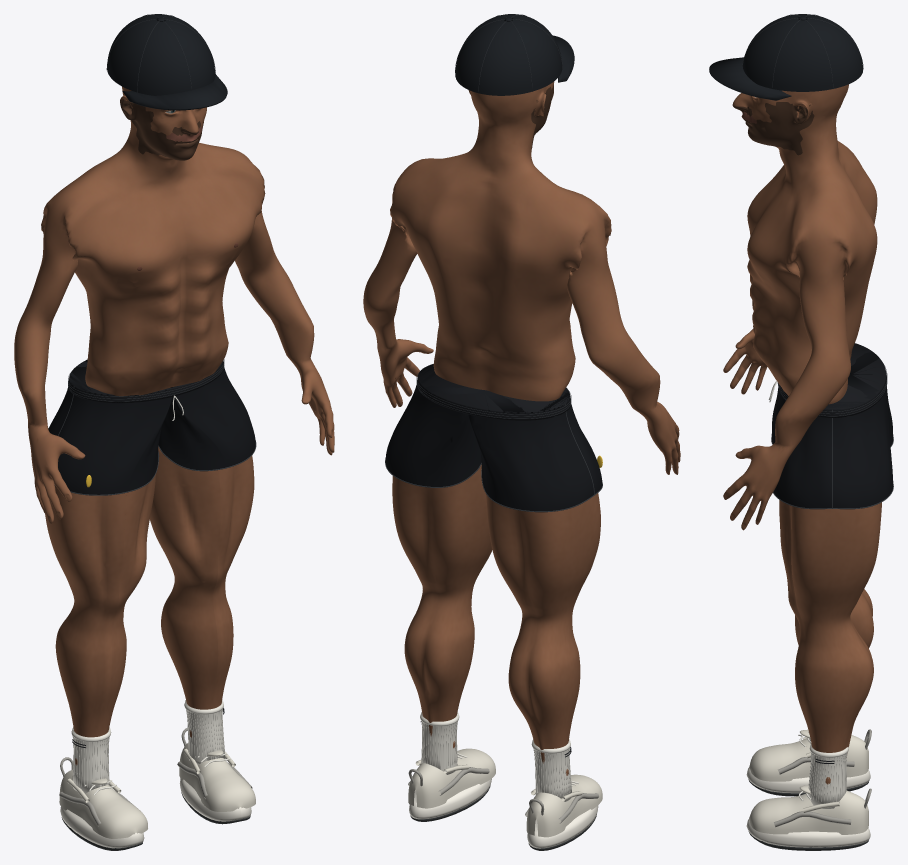
The model's file is chicken-legs.glb.
The picture shows the model from 3 angles, left to right: view 1: azimuth 30°, elevation 25°; view 2: azimuth 150°, elevation 25°; view 3: azimuth 270°, elevation 25°; orthographic projection.
Visible parts, largest first — view 1: web_skin, web_shorts.001, web_cap, web_shoe.003, web_sock, web_face, web_shoe.002, web_shorts, web_shorts.002, web_shoe.004; view 2: web_skin, web_shorts.001, web_cap, web_shoe.003, web_sock, web_shorts, web_shoe.002, web_shorts.002, web_shoe.004; view 3: web_skin, web_shorts.001, web_cap, web_shoe.003, web_shoe.002, web_face, web_shorts, web_sock, web_shoe.004, web_shoe.001, web_shorts.002.
Boxes of the visible parts, box(x1,y1,x2,y2) form: web_skin: box(14, 86, 334, 765); web_shorts.001: box(48, 361, 255, 494); web_cap: box(107, 14, 227, 110); web_shoe.003: box(59, 743, 255, 838); web_sock: box(71, 700, 225, 793); web_face: box(120, 99, 203, 160); web_shoe.002: box(60, 778, 251, 848); web_shorts: box(68, 359, 224, 747); web_shorts.002: box(54, 359, 256, 495); web_shoe.004: box(59, 728, 252, 826); web_skin: box(363, 81, 680, 775); web_shorts.001: box(385, 364, 602, 511); web_cap: box(455, 14, 574, 95); web_shoe.003: box(408, 748, 602, 837); web_sock: box(420, 712, 571, 801); web_shorts: box(417, 365, 571, 757); web_shoe.002: box(409, 778, 598, 848); web_shorts.002: box(385, 373, 602, 512); web_shoe.004: box(408, 767, 598, 823); web_skin: box(723, 84, 881, 784); web_shorts.001: box(771, 347, 893, 508); web_cap: box(709, 14, 862, 100); web_shoe.003: box(749, 729, 868, 834); web_shoe.002: box(746, 767, 870, 847); web_face: box(732, 102, 814, 155); web_shorts: box(778, 343, 886, 763); web_sock: box(808, 731, 848, 808); web_shoe.004: box(774, 729, 871, 827); web_shoe.001: box(748, 779, 868, 850); web_shorts.002: box(771, 365, 893, 509).
Size of the model in its own units: 1.38 by 3.61 by 0.7598.
Materials: 19 (1 with a texture image).
